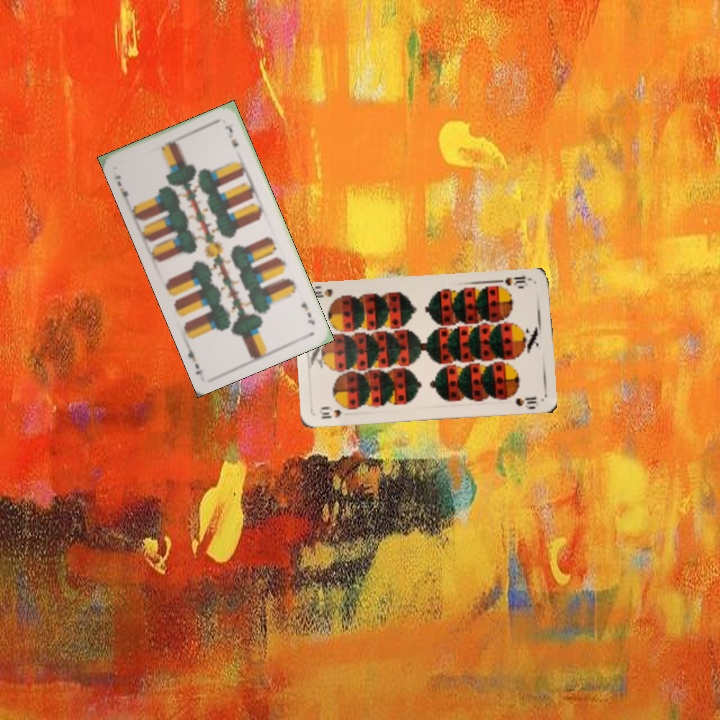E7: (111, 171, 132, 205), (297, 298, 318, 327)
S10: (494, 272, 534, 290), (315, 403, 354, 421)
